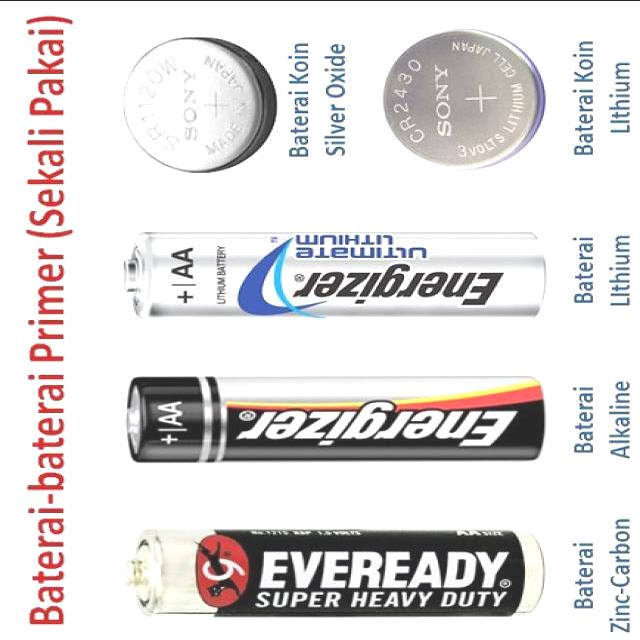AA: (110, 512, 576, 628), (109, 366, 562, 478), (115, 215, 563, 326)
